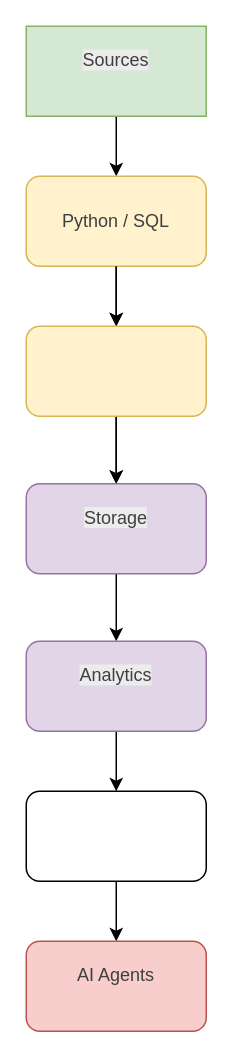
This 233x1058 diagram has some shape labels left out. The centre of each missing label's shape, as x and y in pixels:
"Dashboards" goes at (x=115, y=835).
"ETL" goes at (x=115, y=370).
